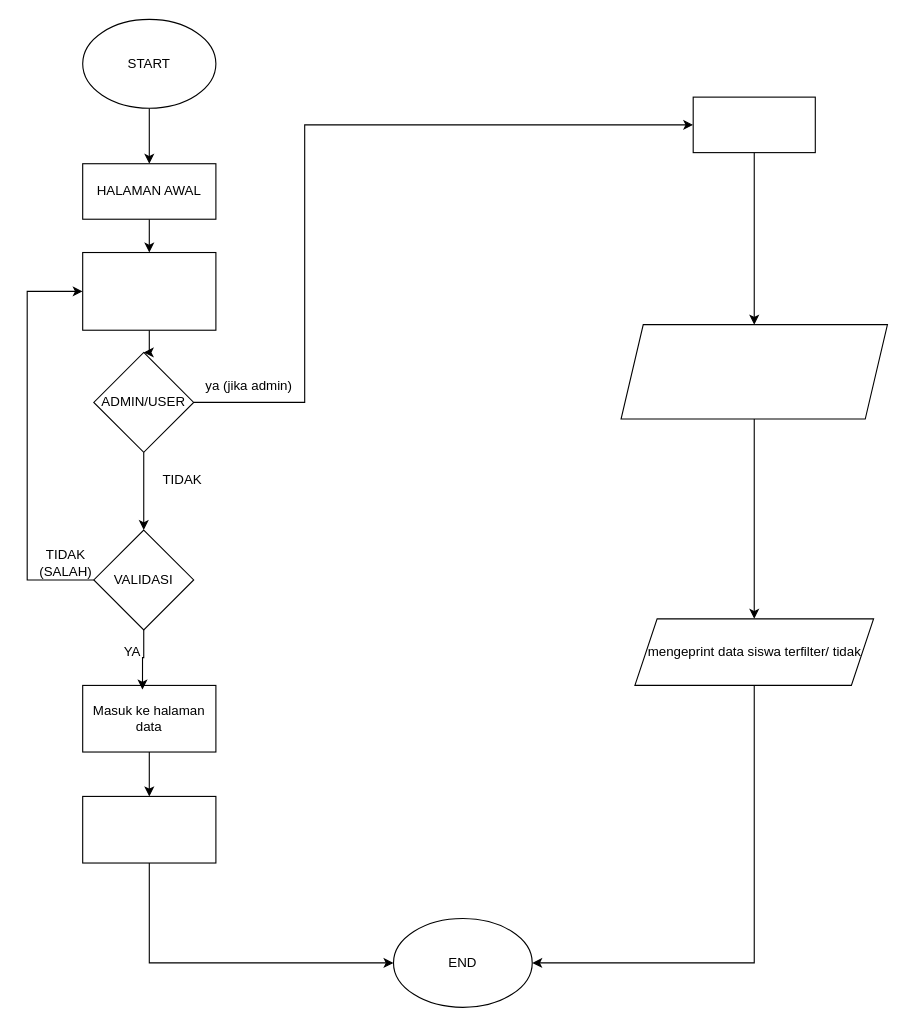
This 907x1027 diagram has some shape labels left out. The shapes that lost their labels are listed below. From the top down, each one's box as (x1, y1, x2, y2) in pixels, then its label:
(692, 96, 815, 153): MASUK KE HALAMAN ADMIN
(82, 251, 216, 330): Login/Registrasi
(620, 324, 887, 419): Menambah/mengedit/menghapus data nilai siswa
(82, 795, 216, 863): Melihat tabel data siswa ,mencari nama atau berdasarkan tanggal
